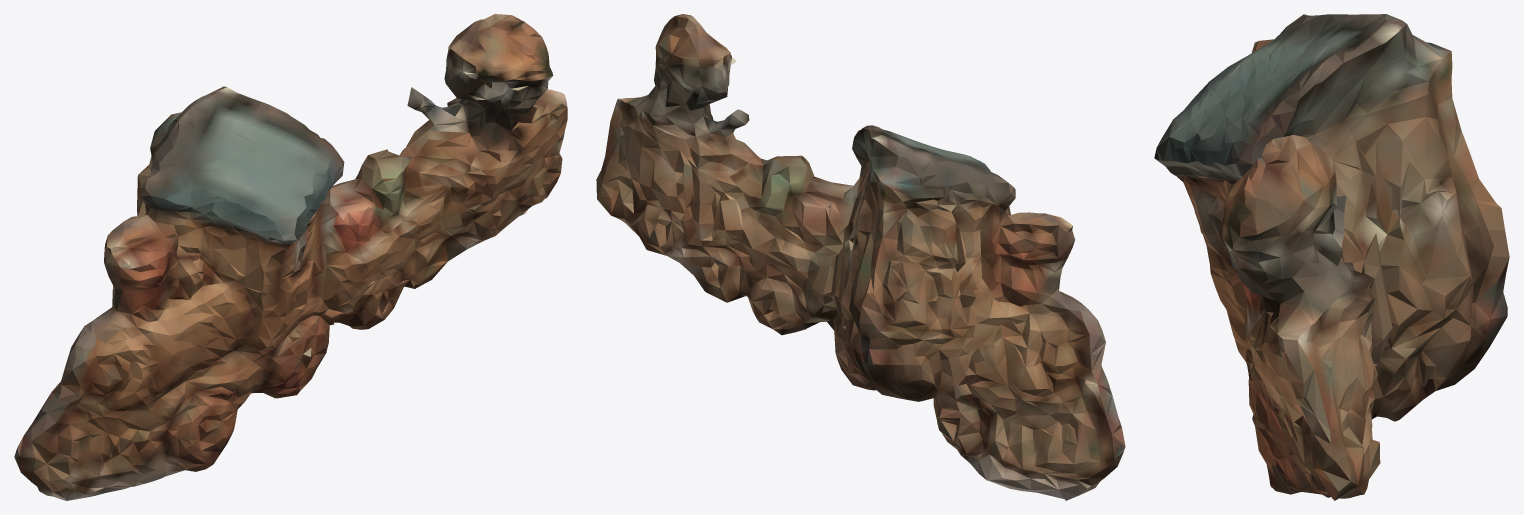
The model's file is daycare_traintoy.glb.
3 renders of one model, left to right at view 1: azimuth 30°, elevation 25°; view 2: azimuth 150°, elevation 25°; view 3: azimuth 270°, elevation 25°, orthographic. The views are drawn at different scales.
Parts seen in each view (by area): view 1: geometry_0; view 2: geometry_0; view 3: geometry_0.
Part boxes in pixels (x1,y1,x2,y2): geometry_0: (14,14,567,500); geometry_0: (596,14,1125,500); geometry_0: (1154,14,1509,500).
Bounding box in the file's own units: 0.2173 × 0.15 × 0.0811.
1 material, 1 textured.
